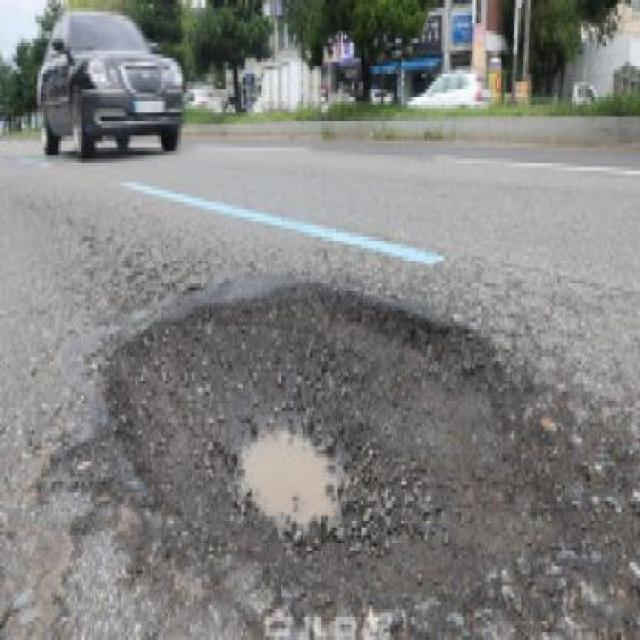Pothole: (94, 275, 557, 620)
